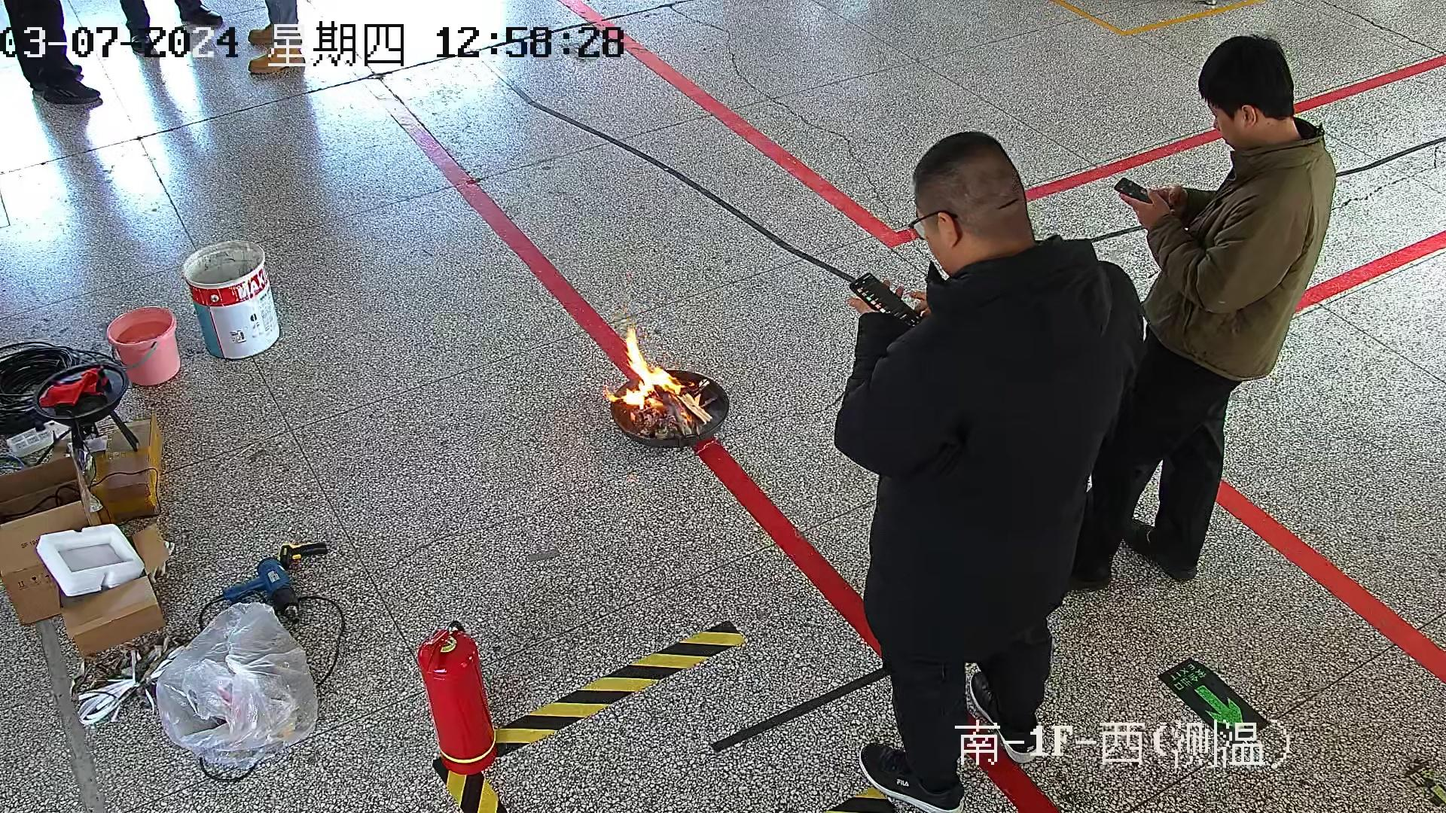fire: (606, 324, 679, 409)
